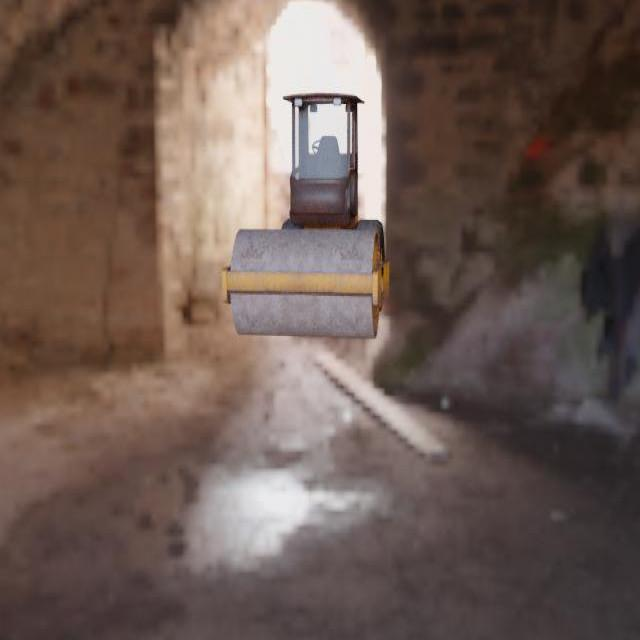Roller: (221, 90, 389, 338)
